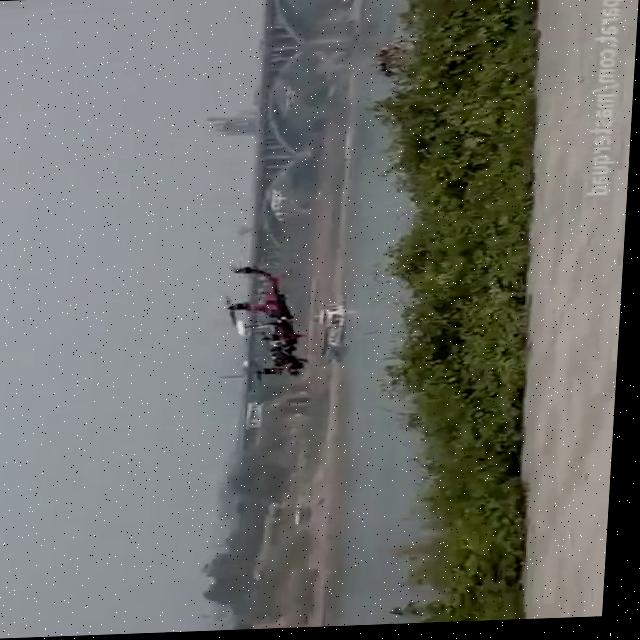drone: (222, 260, 319, 388)
